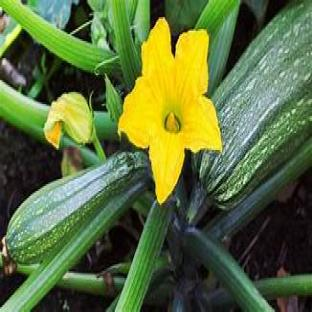Zucchini: (6, 152, 148, 264)
